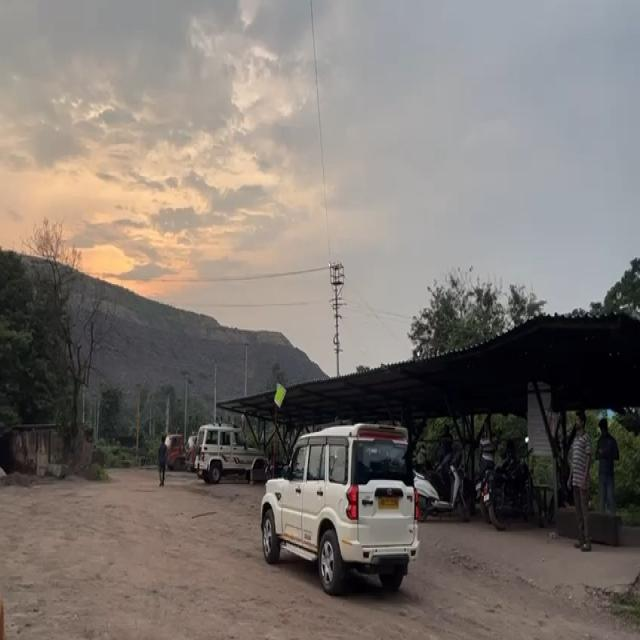light_vehicle: (259, 419, 416, 590), (196, 425, 265, 484)
